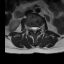CCS_normal: (33, 25, 35, 36)
LFS_normal: (38, 25, 40, 31)
LLS_normal: (35, 25, 38, 31)
RFS_normal: (29, 25, 31, 31)
RLS_normal: (31, 25, 33, 32)
